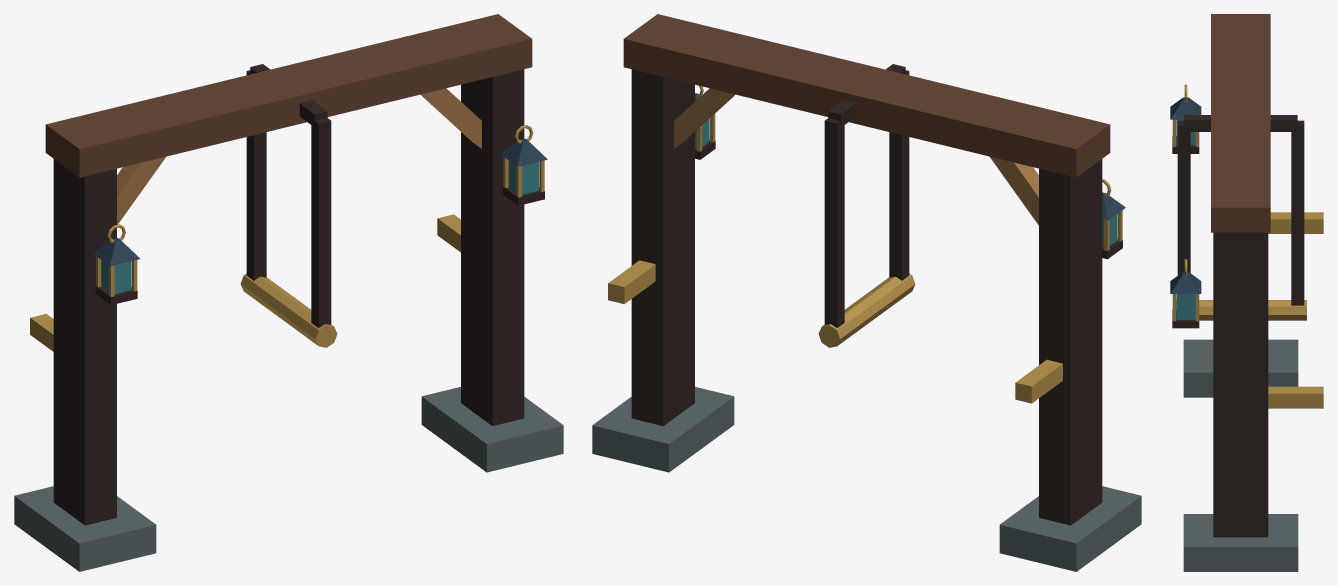
The model's file is PirateCove_TidewheelFrame_Standard.glb.
The picture shows the model from 3 angles, left to right: view 1: azimuth 30°, elevation 25°; view 2: azimuth 150°, elevation 25°; view 3: azimuth 270°, elevation 25°; orthographic projection. The views are drawn at different scales.
Parts seen in each view (by area): view 1: PirateCove_TidewheelFrame_Standard; view 2: PirateCove_TidewheelFrame_Standard; view 3: PirateCove_TidewheelFrame_Standard.
Part boxes in pixels (box(x1,y1,x2,y2)): PirateCove_TidewheelFrame_Standard: box(14, 14, 563, 571); PirateCove_TidewheelFrame_Standard: box(592, 14, 1141, 571); PirateCove_TidewheelFrame_Standard: box(1170, 14, 1323, 571).
Size of the model in its own units: 5.35 by 4.3 by 1.67.
